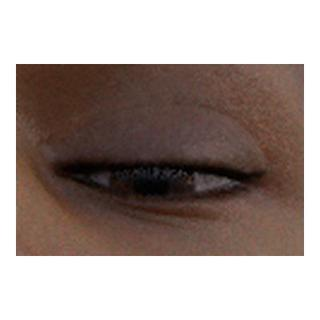pupil: (135, 170, 167, 202)
